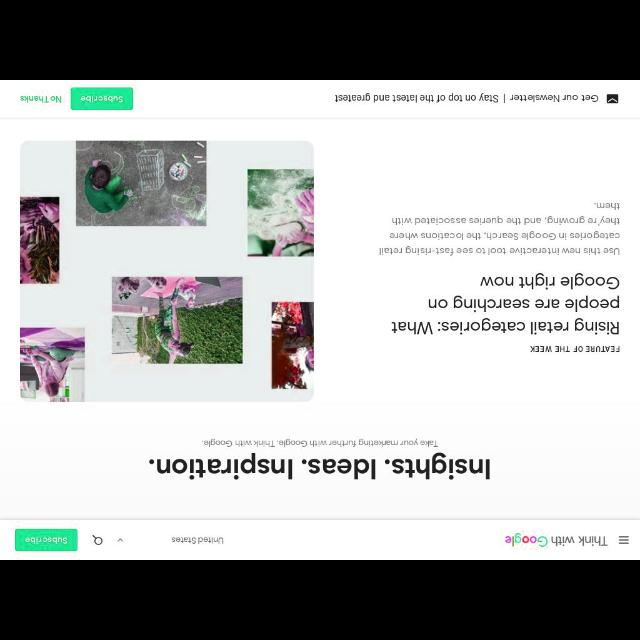icon: (606, 90, 622, 106), (616, 530, 630, 548), (90, 534, 102, 546), (117, 536, 125, 546)
image: (18, 138, 316, 404), (504, 528, 606, 550)
text: (376, 193, 622, 261), (386, 270, 620, 340), (146, 454, 496, 484), (201, 438, 439, 448), (334, 92, 498, 106), (529, 344, 623, 356), (509, 92, 599, 104), (170, 534, 223, 548), (19, 92, 62, 106), (25, 534, 67, 548), (79, 93, 123, 103)
textbutton: (70, 85, 134, 113), (15, 527, 80, 553)
toolbar: (1, 520, 639, 560)
